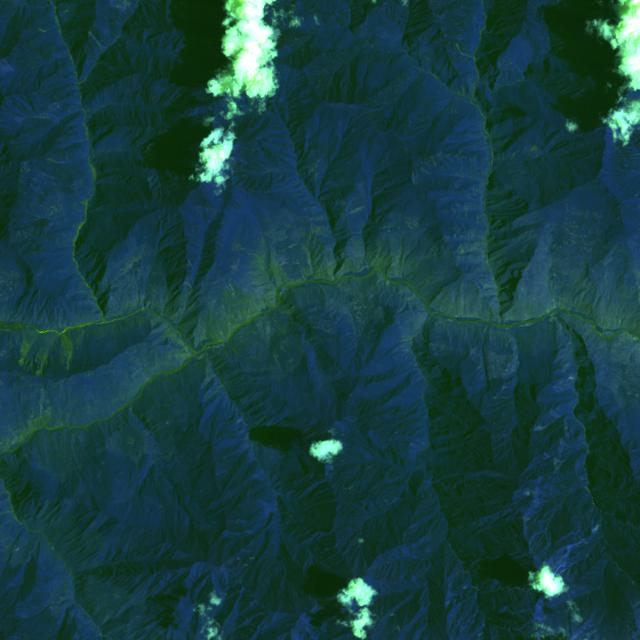landslides: (36, 333, 56, 376), (18, 331, 36, 364), (58, 330, 72, 370), (533, 415, 563, 431), (39, 388, 51, 426), (88, 31, 106, 54), (303, 244, 313, 278), (456, 43, 474, 59), (438, 154, 448, 169), (48, 158, 72, 164), (349, 206, 364, 214), (187, 260, 196, 273), (431, 155, 438, 170)
